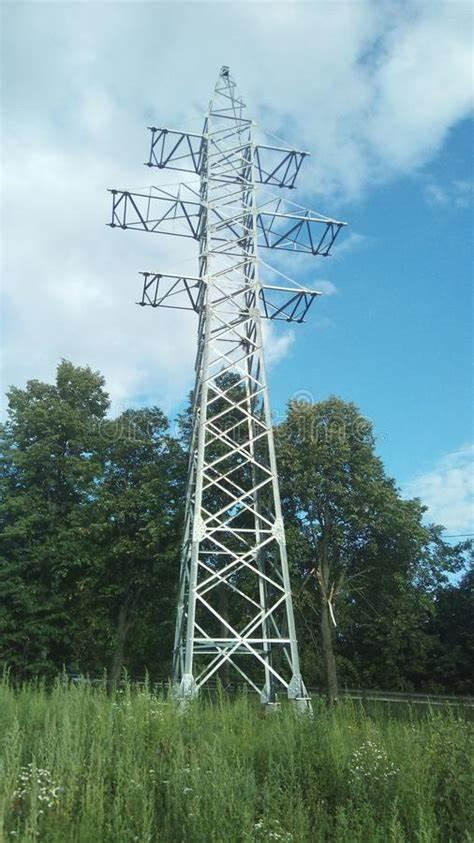power_tower: (107, 65, 347, 719)
